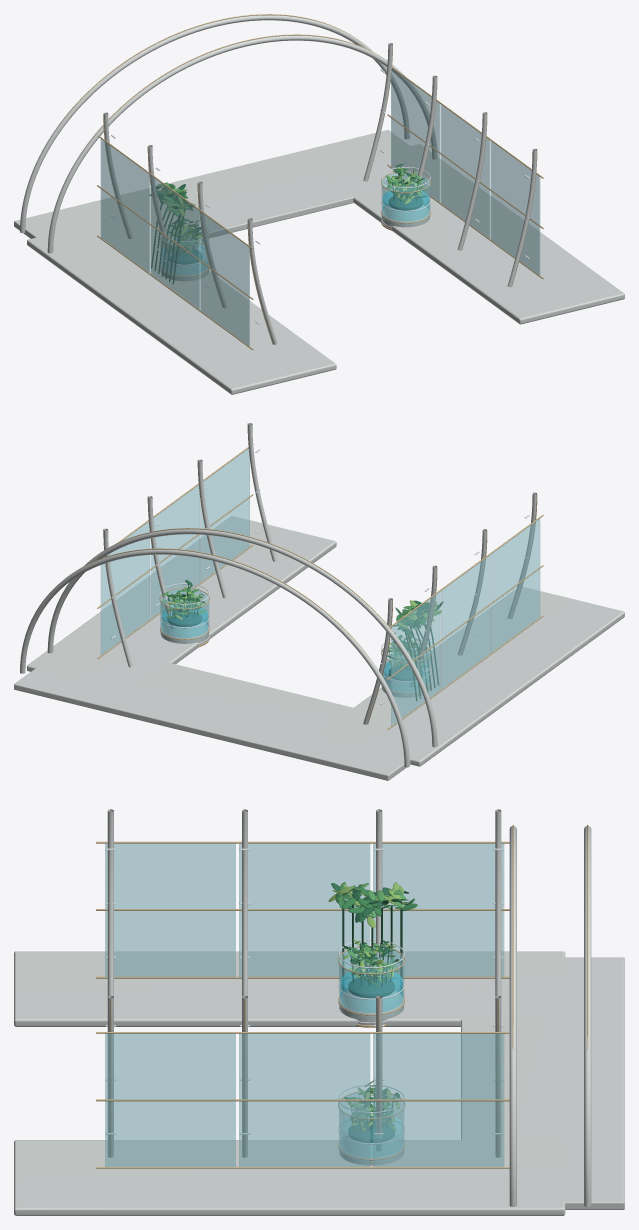
The model's file is atrium-surround-v2.glb.
3 views of the same model, one above another, from view 1: azimuth 30°, elevation 25°; view 2: azimuth 150°, elevation 25°; view 3: azimuth 270°, elevation 25° (orthographic). The views are drawn at different scales.
Parts seen in each view (by area): view 1: ATRIUM / curved structural rib.001, ATRIUM / glazed facade.002, GARDEN / precision plinth fluting.053, GARDEN / broad sculpted foliage.086, GARDEN / cyan optical fluid lower bowl.001, GARDEN / broad sculpted foliage.027, ATRIUM / glazing connector.002, GARDEN / broad sculpted foliage.104, GARDEN / broad sculpted foliage.176; view 2: ATRIUM / curved structural rib.001, ATRIUM / glazed facade.002, GARDEN / precision plinth fluting.053, GARDEN / broad sculpted foliage.086, GARDEN / cyan optical fluid lower bowl.001, ATRIUM / glazing connector.002, GARDEN / broad sculpted foliage.027, GARDEN / broad sculpted foliage.104, GARDEN / broad sculpted foliage.176, GARDEN / submerged mineral island.001; view 3: ATRIUM / curved structural rib.001, ATRIUM / glazed facade.002, GARDEN / precision plinth fluting.053, GARDEN / broad sculpted foliage.086, GARDEN / cyan optical fluid lower bowl.001, GARDEN / broad sculpted foliage.176, GARDEN / broad sculpted foliage.104, ATRIUM / glazing connector.002, GARDEN / broad sculpted foliage.027, GARDEN / submerged mineral island.001.
Part boxes in pixels (left/top/right/bottom): ATRIUM / curved structural rib.001: left=14, top=15, right=624, bottom=394; ATRIUM / glazed facade.002: left=100, top=69, right=540, bottom=346; GARDEN / precision plinth fluting.053: left=59, top=14, right=543, bottom=350; GARDEN / broad sculpted foliage.086: left=149, top=164, right=426, bottom=284; GARDEN / cyan optical fluid lower bowl.001: left=200, top=189, right=428, bottom=271; GARDEN / broad sculpted foliage.027: left=161, top=168, right=422, bottom=251; ATRIUM / glazing connector.002: left=111, top=69, right=529, bottom=324; GARDEN / broad sculpted foliage.104: left=157, top=167, right=424, bottom=253; GARDEN / broad sculpted foliage.176: left=156, top=167, right=427, bottom=256; ATRIUM / curved structural rib.001: left=14, top=423, right=624, bottom=780; ATRIUM / glazed facade.002: left=100, top=449, right=540, bottom=726; GARDEN / precision plinth fluting.053: left=60, top=423, right=543, bottom=729; GARDEN / broad sculpted foliage.086: left=167, top=580, right=443, bottom=700; GARDEN / cyan optical fluid lower bowl.001: left=162, top=606, right=390, bottom=688; ATRIUM / glazing connector.002: left=111, top=449, right=529, bottom=704; GARDEN / broad sculpted foliage.027: left=161, top=588, right=440, bottom=667; GARDEN / broad sculpted foliage.104: left=166, top=587, right=441, bottom=669; GARDEN / broad sculpted foliage.176: left=161, top=585, right=428, bottom=671; GARDEN / submerged mineral island.001: left=167, top=611, right=422, bottom=680; ATRIUM / curved structural rib.001: left=14, top=809, right=624, bottom=1215; ATRIUM / glazed facade.002: left=105, top=843, right=504, bottom=1166; GARDEN / precision plinth fluting.053: left=96, top=809, right=588, bottom=1168; GARDEN / broad sculpted foliage.086: left=331, top=883, right=409, bottom=1134; GARDEN / cyan optical fluid lower bowl.001: left=340, top=969, right=402, bottom=1157; GARDEN / broad sculpted foliage.176: left=335, top=884, right=417, bottom=1125; GARDEN / broad sculpted foliage.104: left=328, top=882, right=407, bottom=1131; ATRIUM / glazing connector.002: left=105, top=848, right=503, bottom=1144; GARDEN / broad sculpted foliage.027: left=339, top=882, right=405, bottom=1131; GARDEN / submerged mineral island.001: left=348, top=976, right=394, bottom=1142.
Bounding box in the file's own units: 41 × 16.94 × 41.
